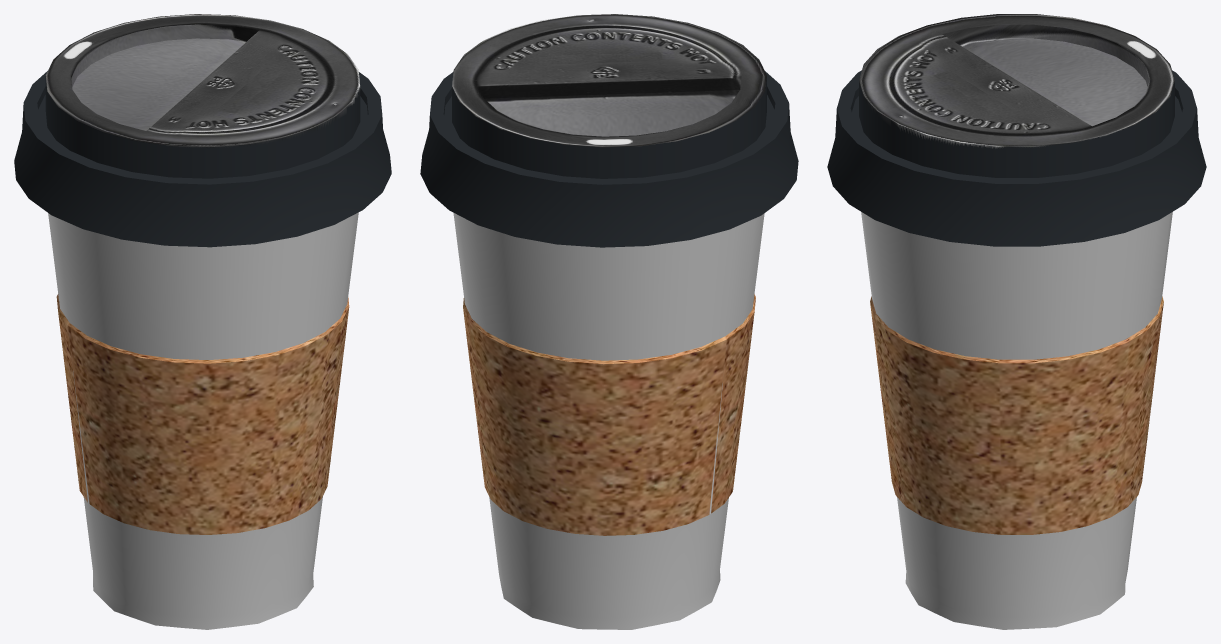
File: vasoCafe.fbx
The picture shows the model from 3 angles, left to right: view 1: azimuth 30°, elevation 25°; view 2: azimuth 150°, elevation 25°; view 3: azimuth 270°, elevation 25°; orthographic projection.
Parts seen in each view (by area): view 1: vasoCafe; view 2: vasoCafe; view 3: vasoCafe.
Part boxes in pixels (x1=…): vasoCafe: x1=14, y1=14, x2=391, y2=629; vasoCafe: x1=420, y1=14, x2=798, y2=629; vasoCafe: x1=827, y1=14, x2=1206, y2=629.
Bounding box in the file's own units: 9.43 × 13.9 × 9.5.
